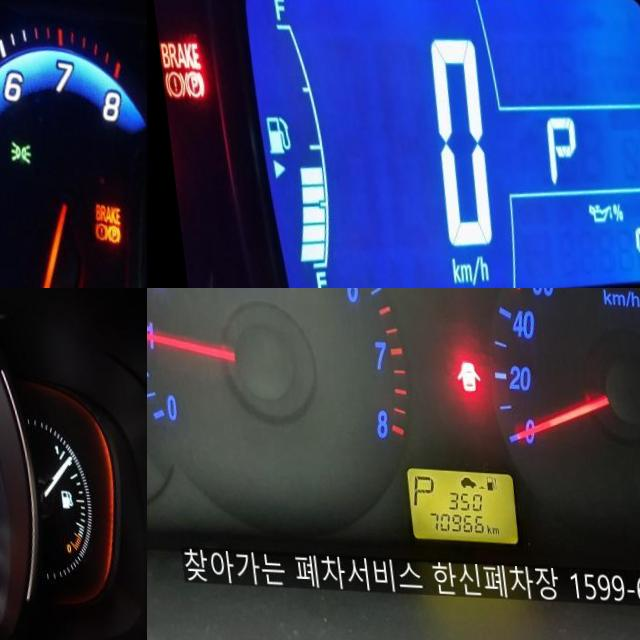Doors: (447, 356, 473, 389)
SideLamp: (3, 137, 28, 163)
